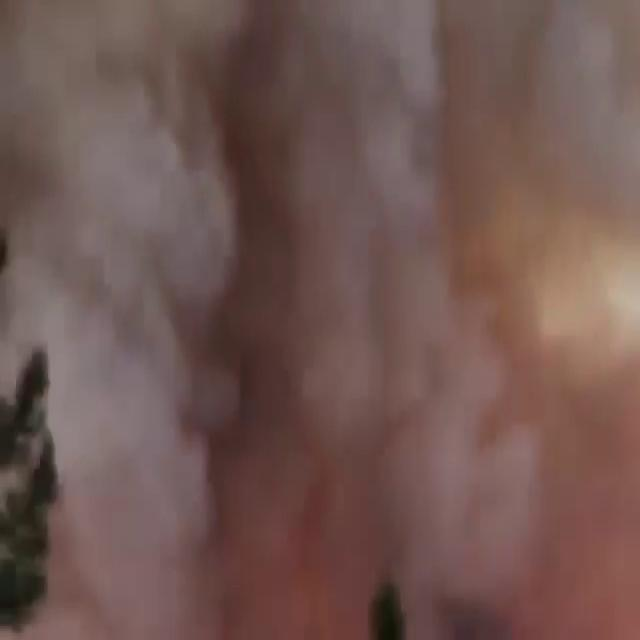Smoke: (8, 0, 640, 616), (230, 0, 570, 570), (40, 23, 254, 453)
